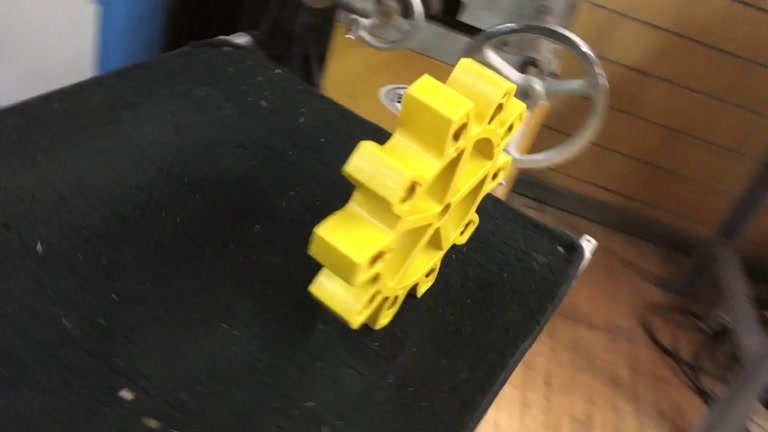gear: (305, 58, 527, 330)
